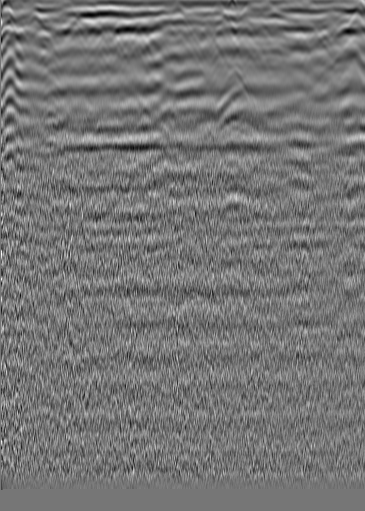가스: (215, 190, 253, 220)
상수: (315, 29, 335, 49)
오수: (26, 9, 46, 29)
우수: (145, 31, 165, 51)
